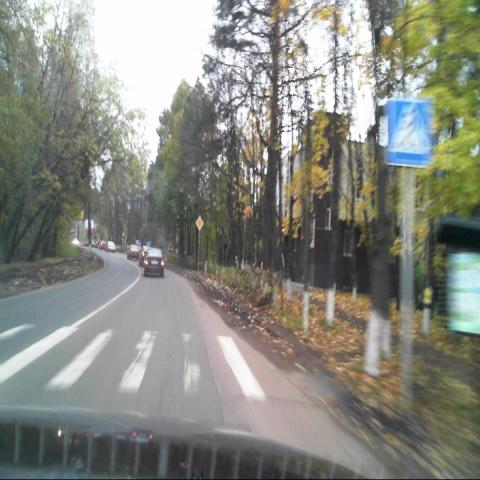5_19_1: (387, 100, 432, 167)
